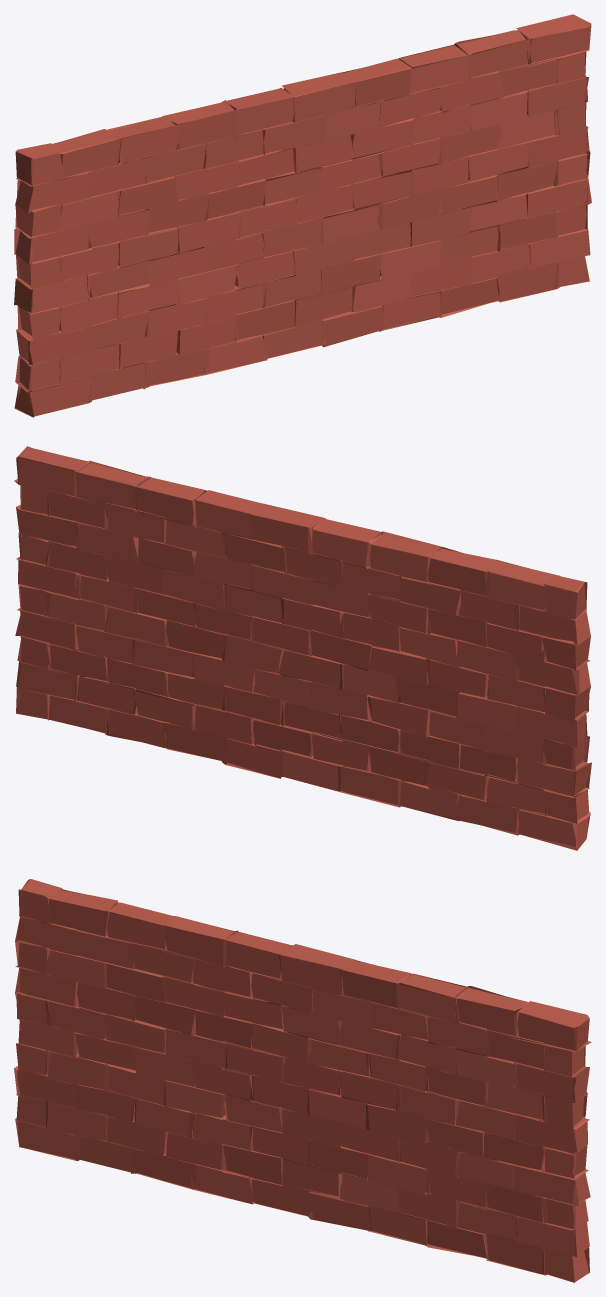
Rendered from cegła.fbx.
The picture shows the model from 3 angles, top to bottom: view 1: azimuth 30°, elevation 25°; view 2: azimuth 150°, elevation 25°; view 3: azimuth 330°, elevation 25°; orthographic projection.
Parts seen in each view (by area): view 1: Sześcian; view 2: Sześcian; view 3: Sześcian.
Boxes of the visible parts, x1=… form: Sześcian: x1=14, y1=14, x2=591, y2=417; Sześcian: x1=14, y1=446, x2=591, y2=850; Sześcian: x1=14, y1=879, x2=591, y2=1282.
Size of the model in its own units: 2154 by 946 by 101.
